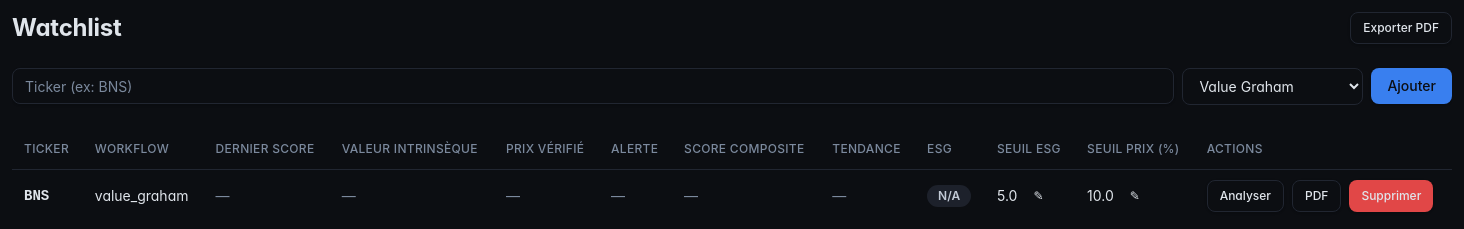
Scenario: WatchlistPdfExport — bouton Exporter PDF global › bouton désactivé pendant le téléchargement (état loading)
Click the button with test id "export-pdf-watchlist" at point(1401, 28), box [1350,12,1452,44]
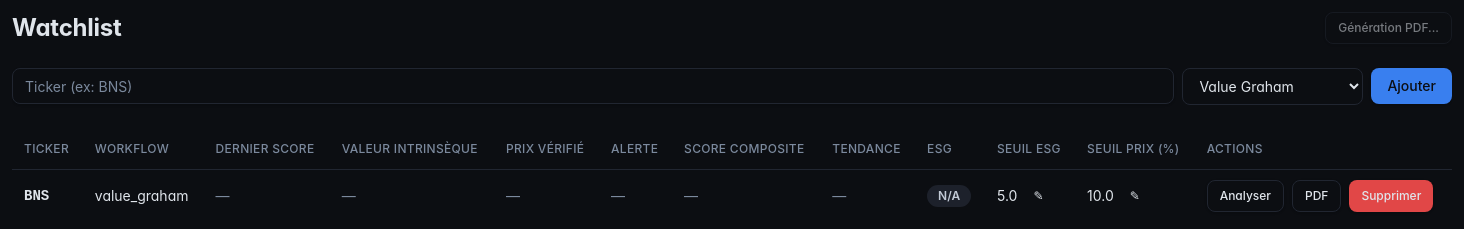
Expected: the button with test id "export-pdf-watchlist" is disabled, [1325,12,1452,44]
